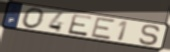1: (117, 20, 130, 42)
4: (45, 11, 66, 34)
E: (89, 16, 117, 41), (66, 14, 94, 38)
O: (21, 7, 47, 30)
S: (138, 24, 162, 47)
